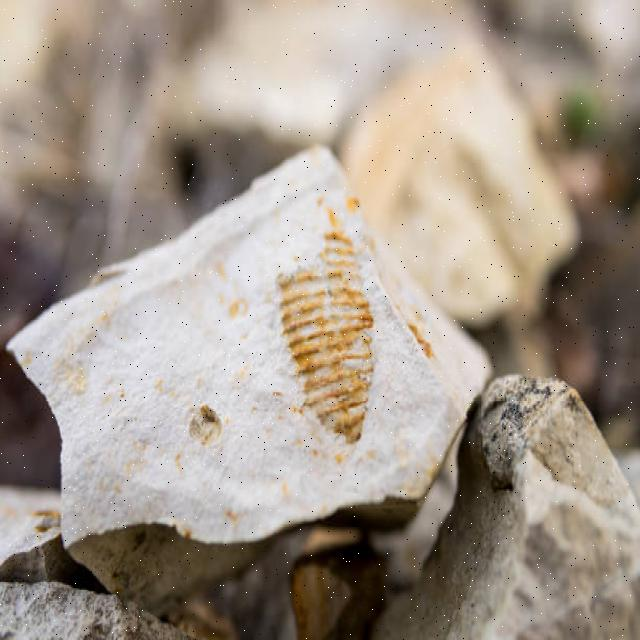Sedimentary: (1, 143, 488, 562)
